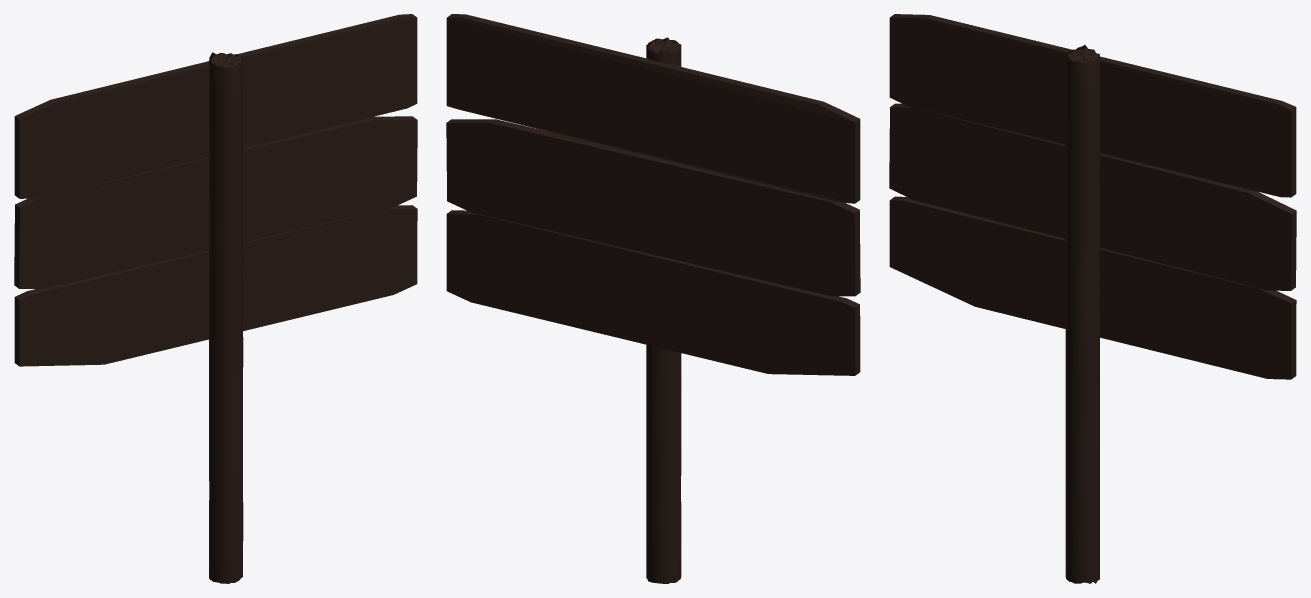
Rendered from sign_openworld.fbx.
3 views of the same model, side by side, from view 1: azimuth 30°, elevation 25°; view 2: azimuth 150°, elevation 25°; view 3: azimuth 330°, elevation 25° (orthographic). The views are drawn at different scales.
Parts seen in each view (by area): view 1: Cube, Cube.001, Cube.002, Cylinder; view 2: Cube, Cube.001, Cube.002, Cylinder; view 3: Cube, Cube.001, Cube.002, Cylinder.
Boxes of the visible parts, <box> form: Cube: <box>14,14,417,198</box>; Cube.001: <box>14,116,417,288</box>; Cube.002: <box>14,205,417,366</box>; Cylinder: <box>209,52,243,583</box>; Cube: <box>446,14,860,203</box>; Cube.001: <box>446,119,860,296</box>; Cube.002: <box>446,210,860,375</box>; Cylinder: <box>646,37,681,583</box>; Cube: <box>889,14,1296,197</box>; Cube.001: <box>889,103,1296,290</box>; Cube.002: <box>889,196,1296,379</box>; Cylinder: <box>1065,45,1099,583</box>.
Size of the model in its own units: 327 by 409 by 30.09.
1 material, 1 textured.
